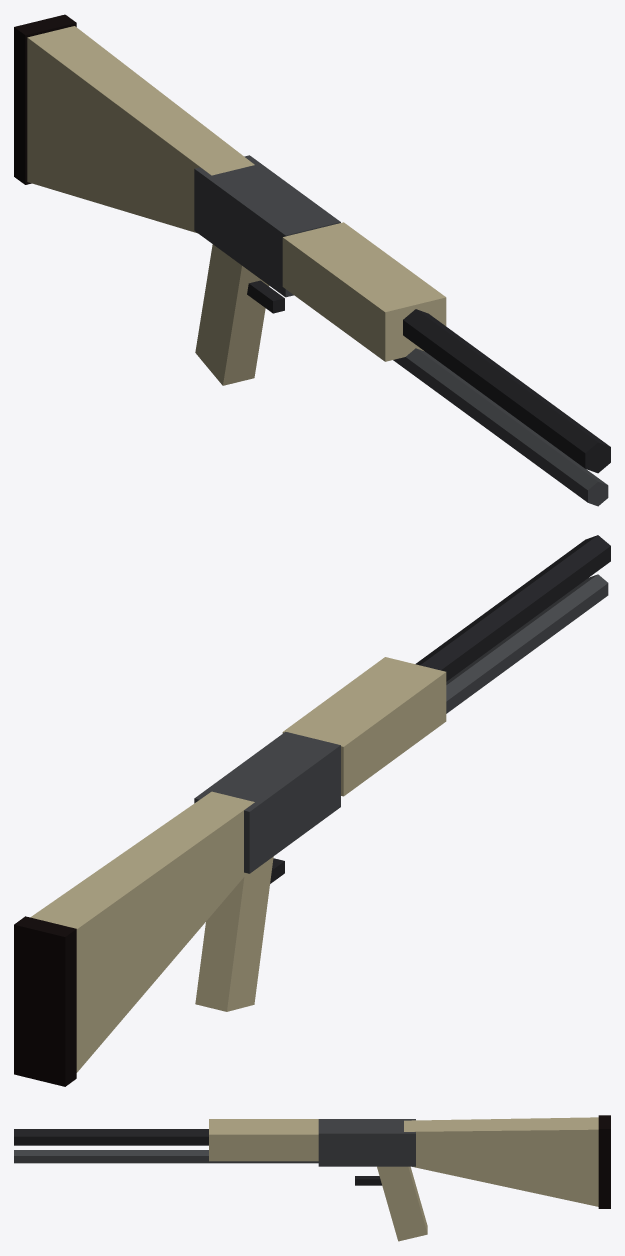
Rendered from wtype_shotgun.glb.
3 renders of one model, top to bottom at view 1: azimuth 30°, elevation 25°; view 2: azimuth 150°, elevation 25°; view 3: azimuth 270°, elevation 25°, orthographic. The views are drawn at different scales.
Visible parts, largest first — view 1: wtype_shotgun; view 2: wtype_shotgun; view 3: wtype_shotgun.
Part boxes in pixels (bbox=[...]): wtype_shotgun: bbox=[14, 14, 610, 506]; wtype_shotgun: bbox=[14, 535, 610, 1086]; wtype_shotgun: bbox=[14, 1115, 610, 1241].
Size of the model in its own units: 0.062 by 0.2088 by 0.98.
